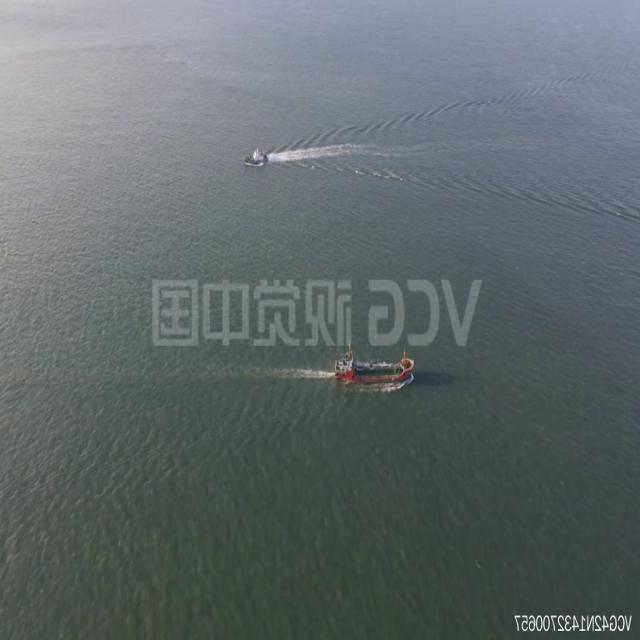cargoship: (332, 345, 414, 390), (242, 147, 269, 170)
